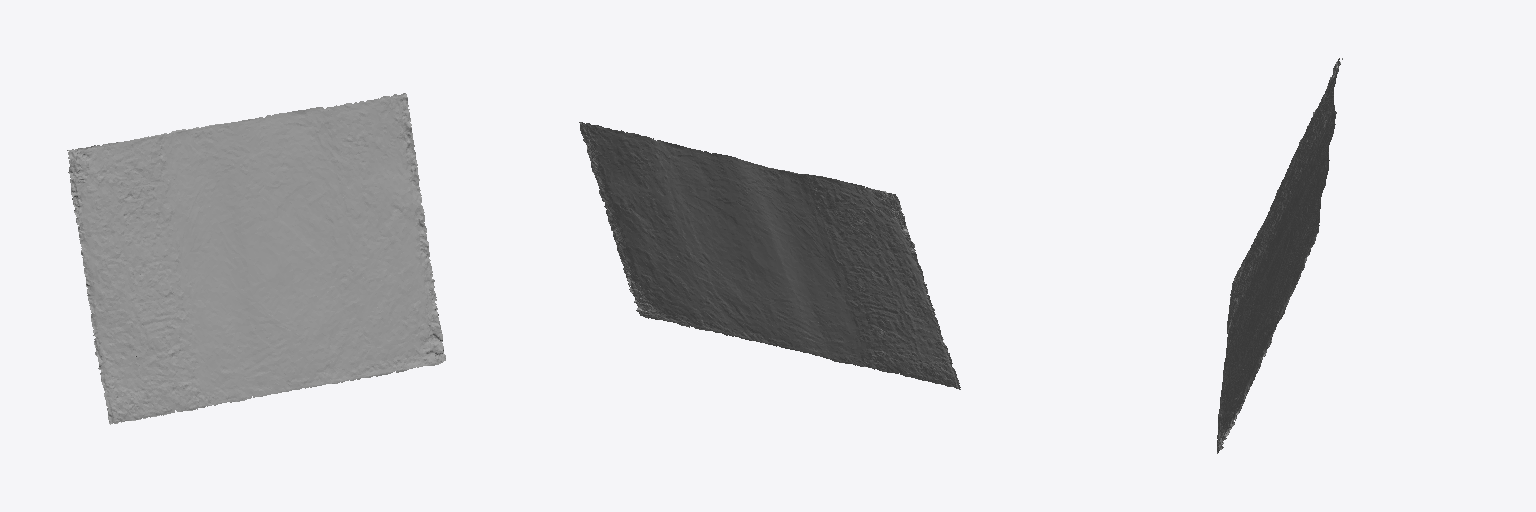
File: tube_def_clean_edges.obj
3 renders of one model, left to right at view 1: azimuth 30°, elevation 25°; view 2: azimuth 150°, elevation 25°; view 3: azimuth 270°, elevation 25°, orthographic.
Parts seen in each view (by area): view 1: type1_captian_america; view 2: type1_captian_america; view 3: type1_captian_america.
Part boxes in pixels (x1,y1,x2,y2): type1_captian_america: (67,93,445,424); type1_captian_america: (579,122,960,389); type1_captian_america: (1217,58,1342,453).
Bounding box in the file's own units: 3.16 × 2.18 × 1.02.